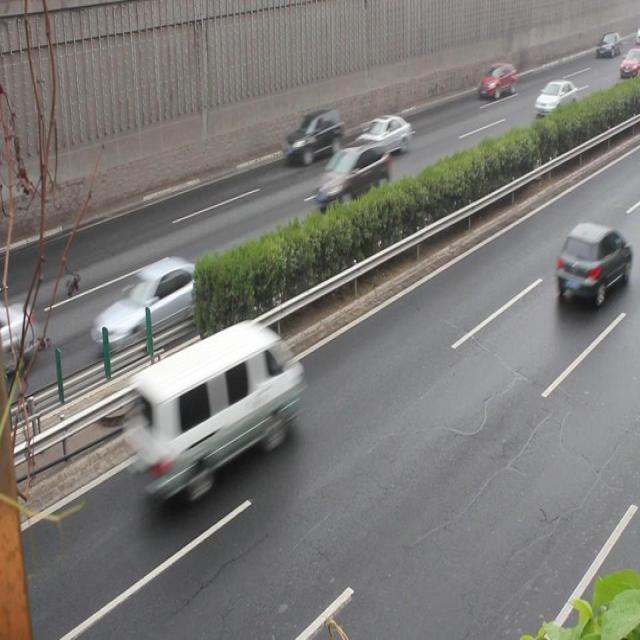car: (91, 257, 206, 353), (554, 222, 628, 304), (313, 139, 388, 207), (283, 106, 344, 163), (351, 112, 411, 156), (533, 78, 576, 118), (475, 62, 516, 100)
truck: (130, 319, 301, 498)
